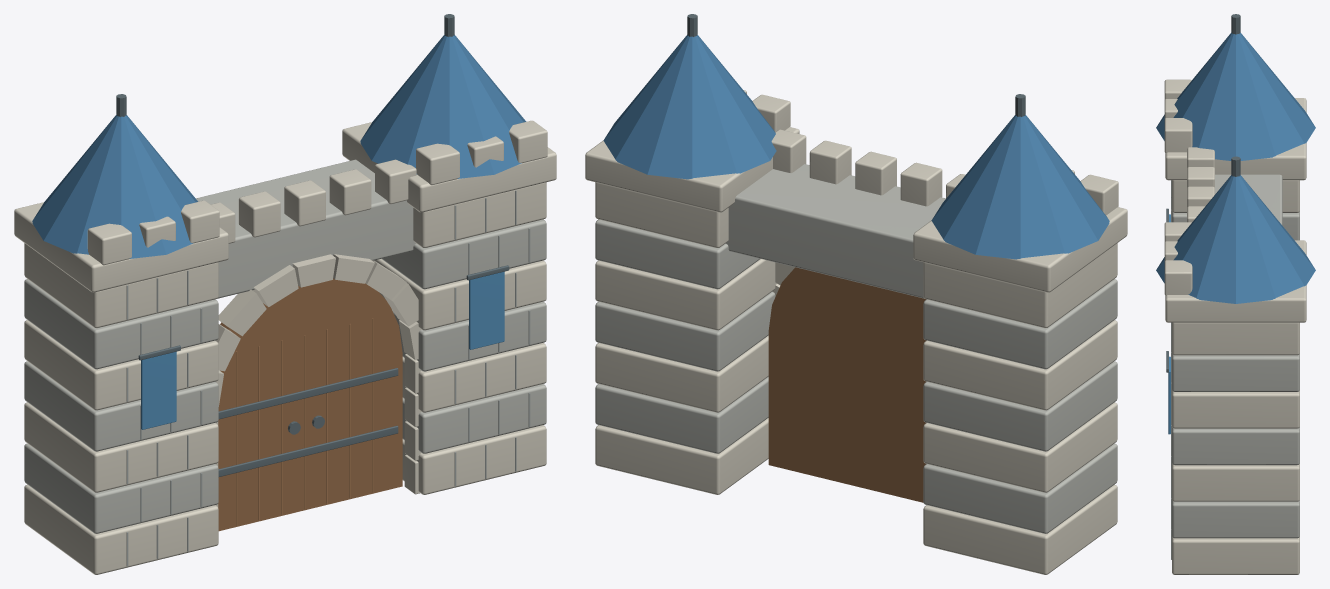
File: gate-kit.glb
3 views of the same model, side by side, from view 1: azimuth 30°, elevation 25°; view 2: azimuth 150°, elevation 25°; view 3: azimuth 270°, elevation 25° (orthographic). The views are drawn at different scales.
Parts seen in each view (by area): view 1: gate-kit Stone trim, gate-kit Stone warm, gate door, gate-kit Roof blue, gate-kit Banner blue, gate-kit Iron, gate-kit Stone shade, gate-kit Door alternate; view 2: gate-kit Stone trim, gate-kit Stone warm, gate door, gate-kit Roof blue; view 3: gate-kit Stone trim, gate-kit Roof blue, gate-kit Stone warm, gate-kit Iron, gate-kit Stone shade, gate-kit Banner blue.
Boxes of the visible parts, left/top/right/bottom form: gate-kit Stone trim: left=14, top=120, right=556, bottom=574; gate-kit Stone warm: left=24, top=159, right=546, bottom=533; gate door: left=218, top=278, right=402, bottom=531; gate-kit Roof blue: left=32, top=35, right=526, bottom=258; gate-kit Banner blue: left=141, top=271, right=504, bottom=429; gate-kit Iron: left=116, top=14, right=509, bottom=476; gate-kit Stone shade: left=126, top=190, right=530, bottom=566; gate-kit Door alternate: left=236, top=318, right=373, bottom=525; gate-kit Stone trim: left=585, top=90, right=1127, bottom=574; gate-kit Stone warm: left=595, top=164, right=1117, bottom=533; gate door: left=768, top=267, right=926, bottom=502; gate-kit Roof blue: left=603, top=35, right=1109, bottom=259; gate-kit Stone trim: left=1164, top=79, right=1306, bottom=574; gate-kit Roof blue: left=1156, top=32, right=1315, bottom=303; gate-kit Stone warm: left=1172, top=174, right=1299, bottom=538; gate-kit Iron: left=1166, top=14, right=1240, bottom=372; gate-kit Stone shade: left=1171, top=180, right=1171, bottom=559; gate-kit Banner blue: left=1168, top=214, right=1170, bottom=434.
Bounding box in the file's own units: 6.4 × 5.57 × 2.06.
